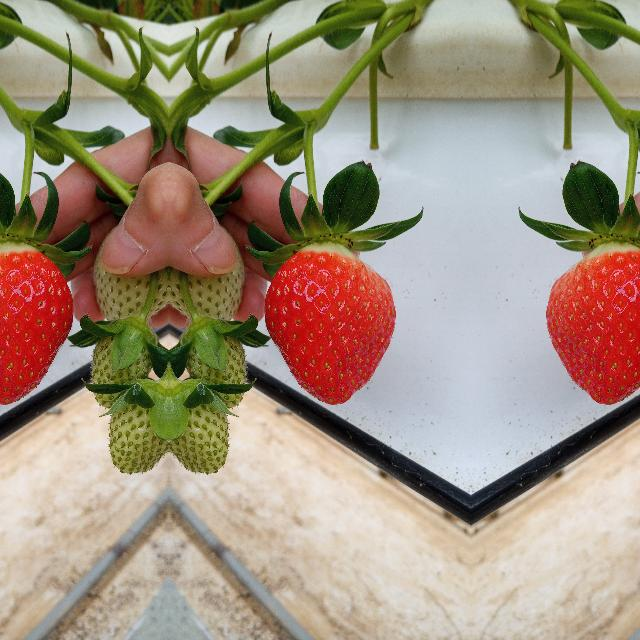Health_100: (262, 242, 396, 404), (545, 241, 640, 404), (0, 241, 73, 404)
Health_25: (172, 224, 250, 330), (86, 224, 164, 330), (174, 334, 260, 412), (76, 334, 162, 412), (170, 384, 230, 476), (106, 384, 166, 476)
